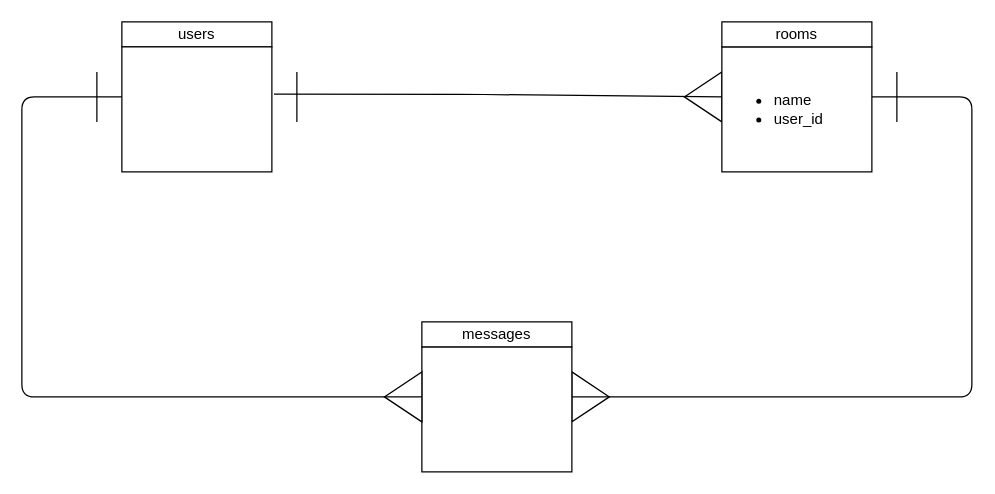
The diagram is 995 pixels wide and 494 high, and some of its shapes have lost their labels. Each missing label, with the centre of its shape:
content user_id room_id image: the point at 496,409
nickname email password: the point at 196,109
